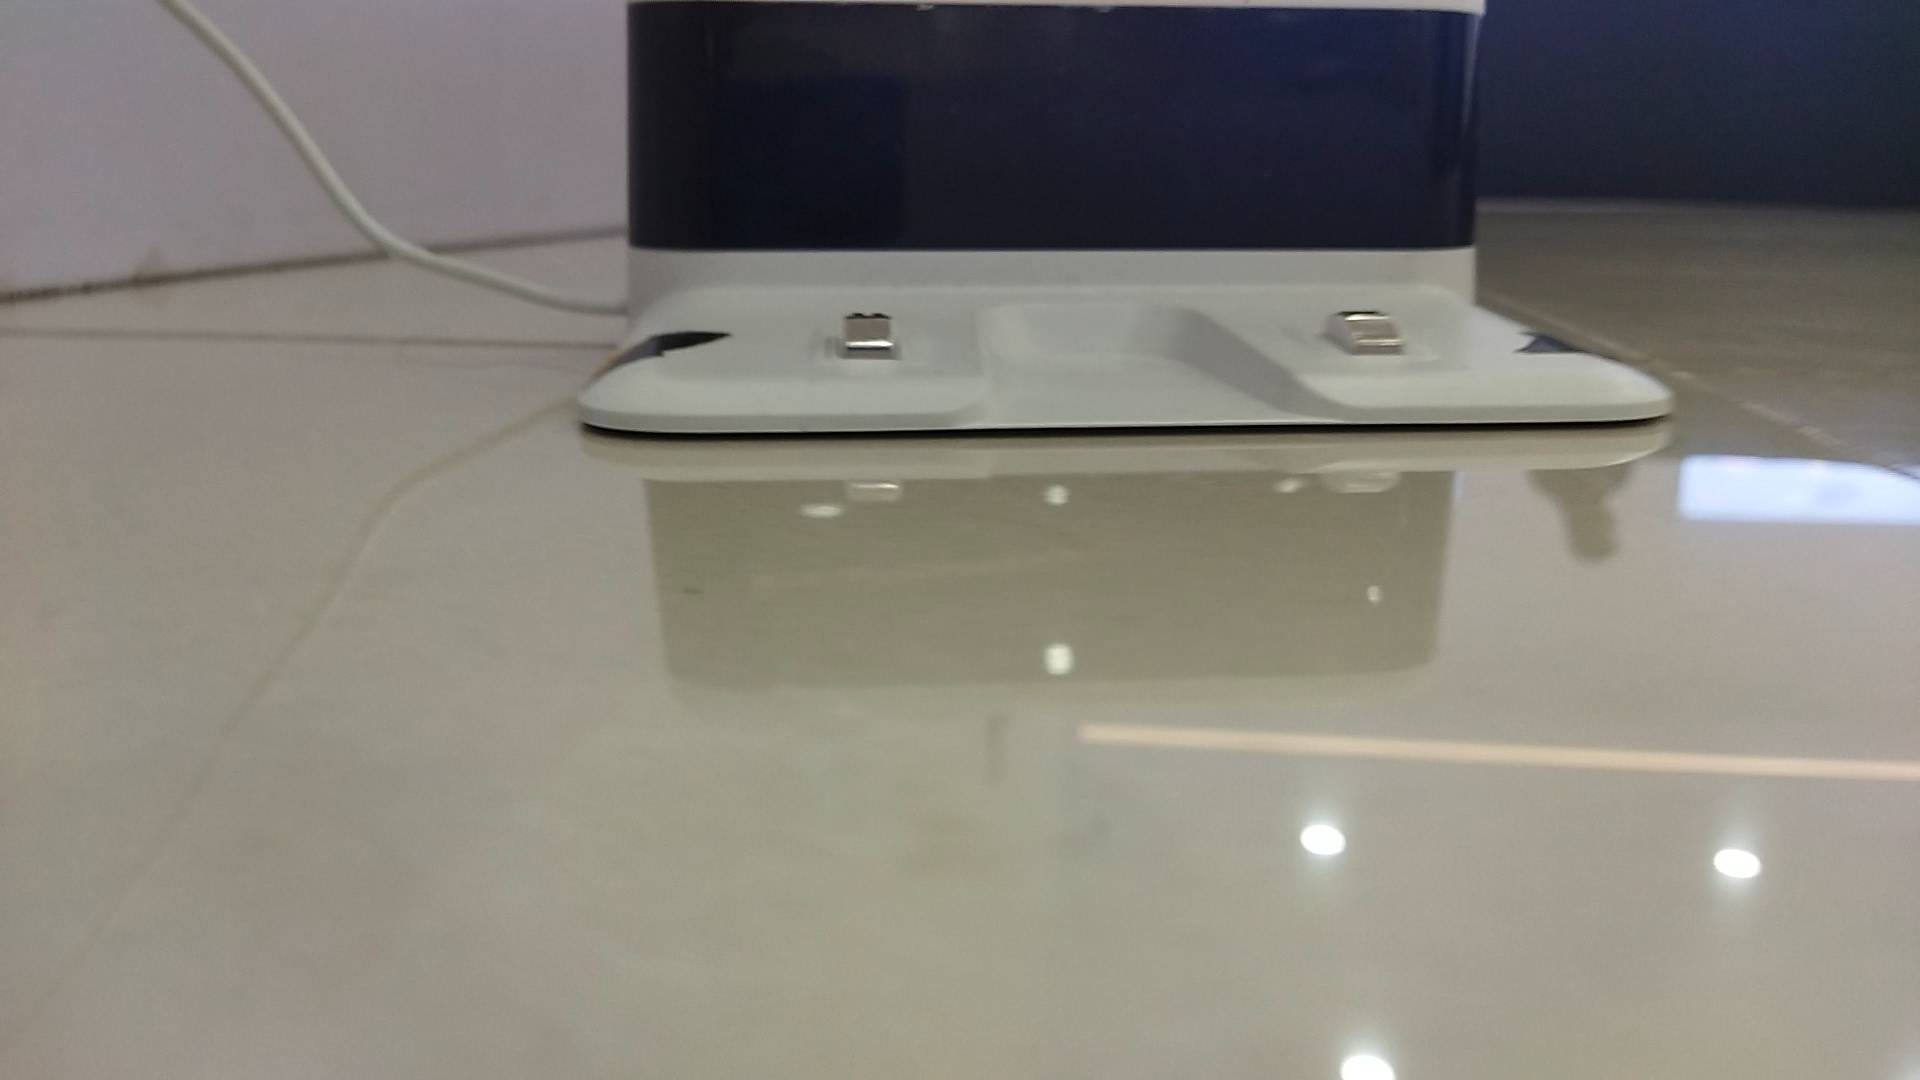recharge seat: (579, 1, 1677, 436)
